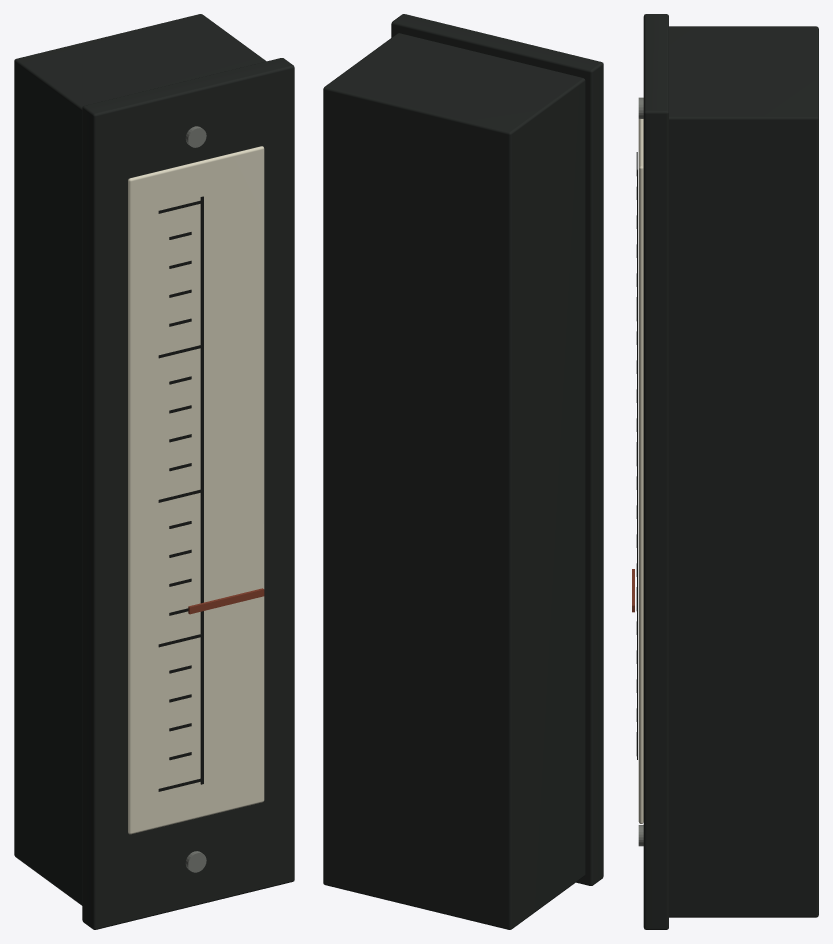
File: linear_gauge_photo_blockout.glb
3 renders of one model, left to right at view 1: azimuth 30°, elevation 25°; view 2: azimuth 150°, elevation 25°; view 3: azimuth 270°, elevation 25°, orthographic.
Parts seen in each view (by area): view 1: Fixed_Scale_Window, Fixed_Front_Frame, Fixed_Rear_Housing, Fixed_Scale_Rail, Fixed_Scale_Printing, Moving_Pointer; view 2: Fixed_Rear_Housing, Fixed_Front_Frame; view 3: Fixed_Rear_Housing, Fixed_Front_Frame, Fixed_Scale_Window, Fixed_Scale_Rail.
Boxes of the visible parts, x1,y1,x2,y2 form: Fixed_Scale_Window: (128,146,264,834); Fixed_Front_Frame: (82,58,294,929); Fixed_Rear_Housing: (14,14,266,905); Fixed_Scale_Rail: (200,196,203,784); Fixed_Scale_Printing: (158,200,202,791); Moving_Pointer: (188,588,264,614); Fixed_Rear_Housing: (323,33,585,929); Fixed_Front_Frame: (391,14,603,885); Fixed_Rear_Housing: (669,26,818,917); Fixed_Front_Frame: (643,14,668,929); Fixed_Scale_Window: (638,119,643,823); Fixed_Scale_Rail: (637,169,637,759).
Bounding box in the file's own units: 0.046 × 0.178 × 0.0368.
